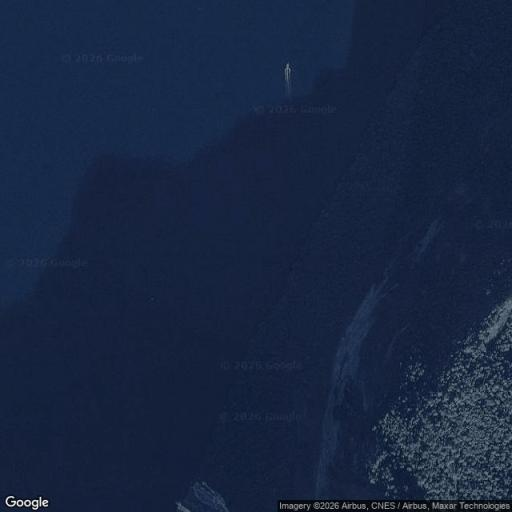ship: (284, 62, 298, 94)
